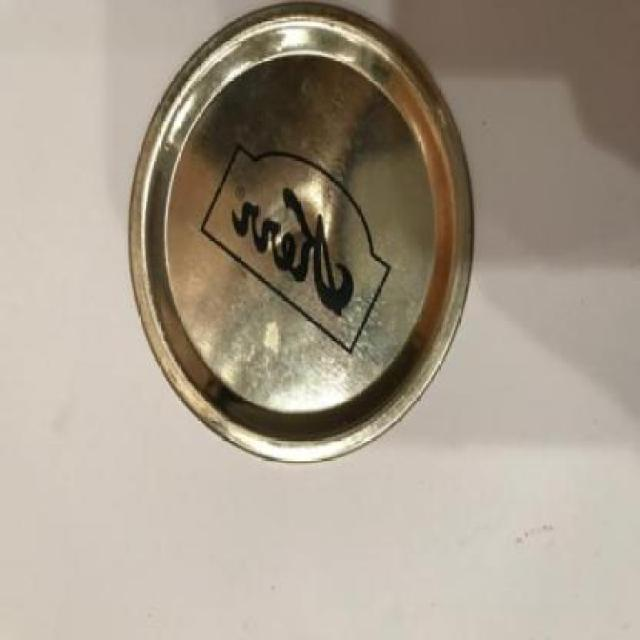METAL: (126, 2, 474, 464)
